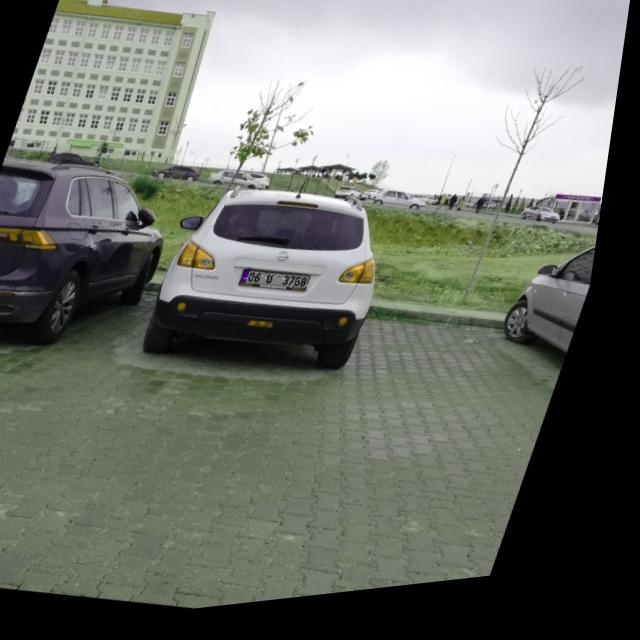license_plate: (246, 271, 320, 303)
